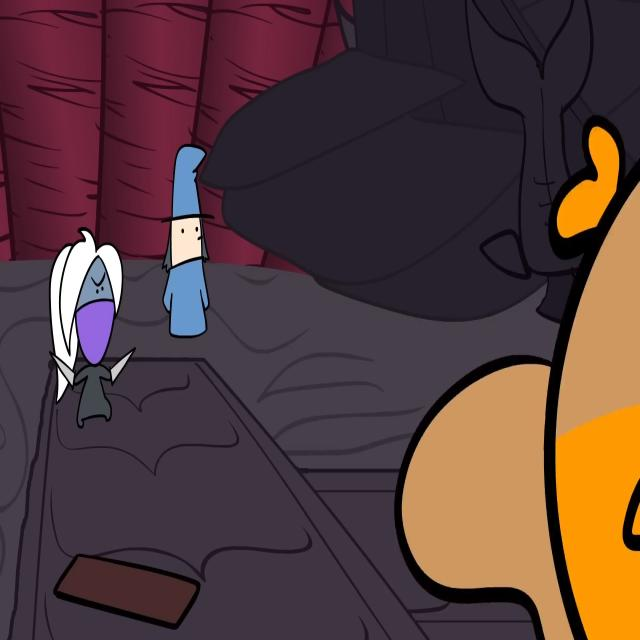Josh: (160, 143, 210, 350)
miss Demeanor: (48, 225, 125, 429)
